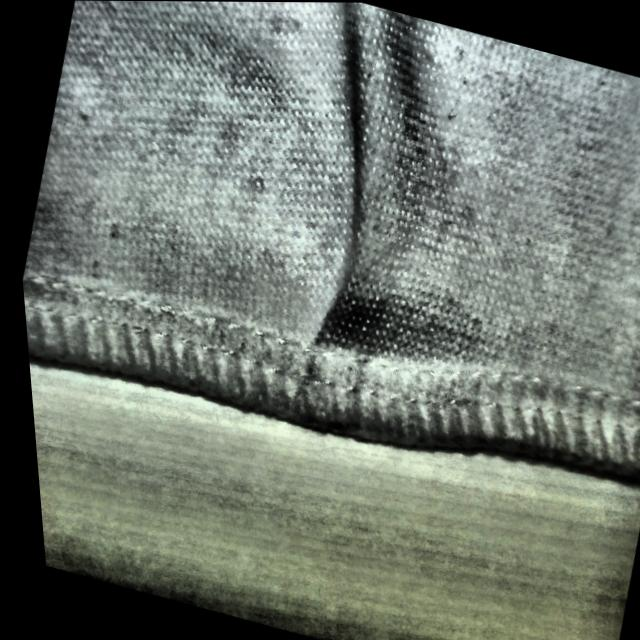seam: (229, 130, 466, 455)
